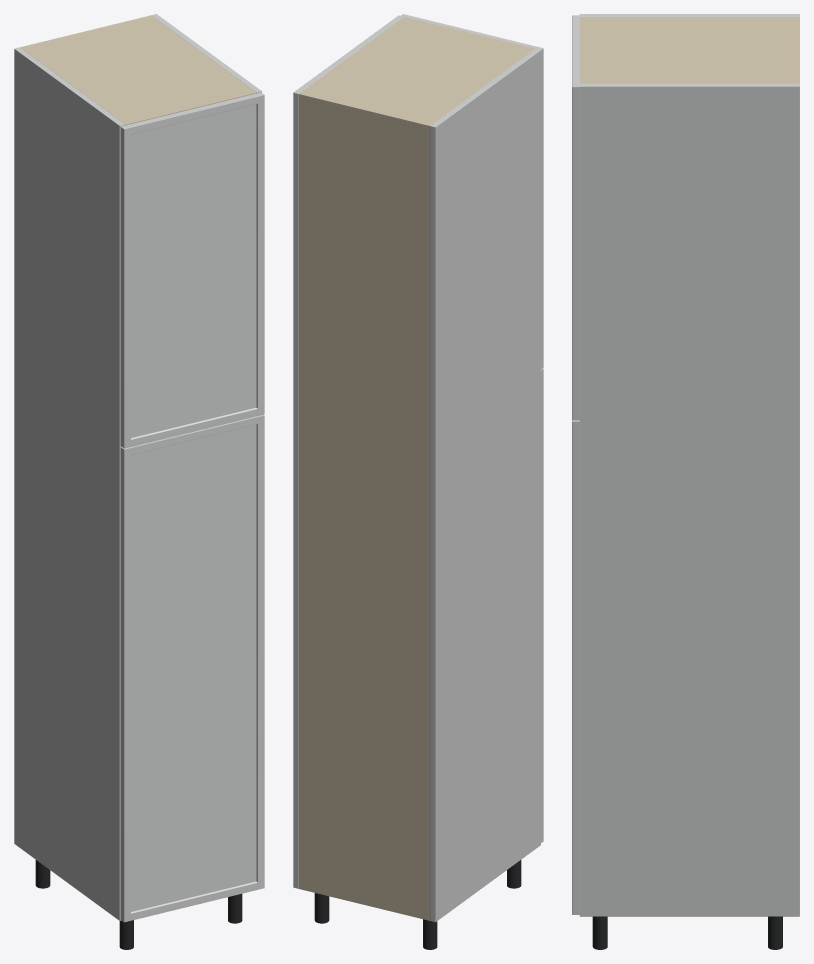
The model's file is oppein-ply-ssw-pc1896.glb.
3 renders of one model, left to right at view 1: azimuth 30°, elevation 25°; view 2: azimuth 150°, elevation 25°; view 3: azimuth 270°, elevation 25°, orthographic. The views are drawn at different scales.
Parts seen in each view (by area): view 1: Cabinet side, Door, Door.001, Cabinet top, Cabinet side.001; view 2: Cabinet back, Cabinet side, Cabinet top, Cabinet side.001, Door, Door.001, Cabinet bottom; view 3: Cabinet side.001, Cabinet top, Door, Door.001, Cabinet side, Adjustable foot.003, Adjustable foot.002.
Part boxes in pixels (<box>): Cabinet side: <box>14,47,125,920</box>; Door: <box>120,414,264,922</box>; Door.001: <box>120,92,264,448</box>; Cabinet top: <box>22,17,256,125</box>; Cabinet side.001: <box>151,14,261,93</box>; Cabinet back: <box>299,92,431,920</box>; Cabinet side: <box>430,49,540,922</box>; Cabinet top: <box>299,17,534,131</box>; Cabinet side.001: <box>293,15,403,888</box>; Door: <box>541,368,543,842</box>; Door.001: <box>401,14,543,369</box>; Cabinet bottom: <box>299,884,429,920</box>; Cabinet side.001: <box>579,83,799,916</box>; Cabinet top: <box>579,17,795,83</box>; Door: <box>572,420,579,914</box>; Door.001: <box>572,15,579,420</box>; Cabinet side: <box>579,14,799,16</box>; Adjustable foot.003: <box>592,916,607,949</box>; Adjustable foot.002: <box>768,916,782,949</box>.
Bounding box in the file's own units: 0.4572 × 2.55 × 0.6064.
